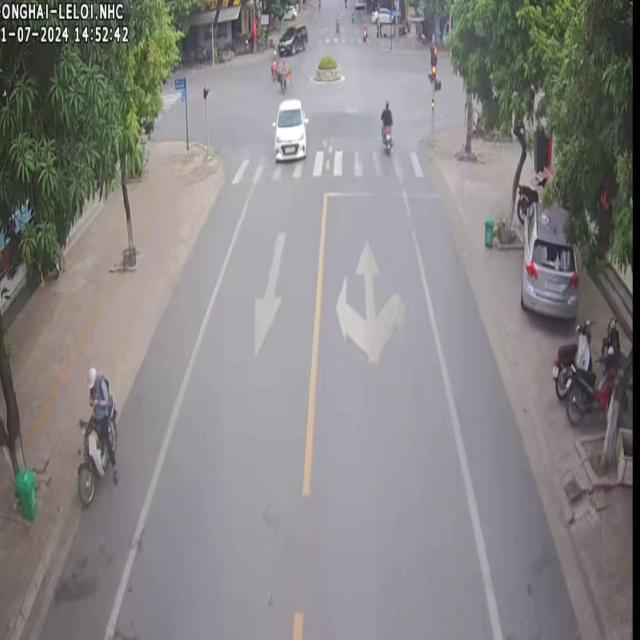car: (519, 194, 578, 318), (270, 96, 307, 160)
motobike: (563, 316, 622, 422), (76, 365, 118, 502), (550, 318, 590, 398), (377, 95, 393, 171)
stop_line: (323, 189, 436, 196)
yellow_light: (427, 40, 435, 85)
